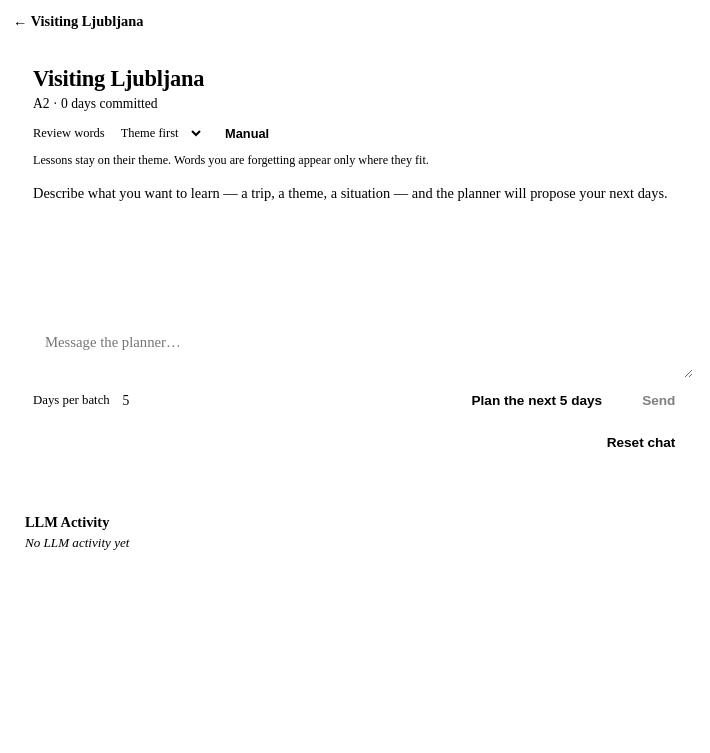
it: /c/[curriculumId]/plan page › sending a message appends the turn and renders the proposal
Type "plan my trip" into the text box with placeholder "Message the planner…". click: x=363, y=351
box: left=33, top=325, right=693, bottom=378
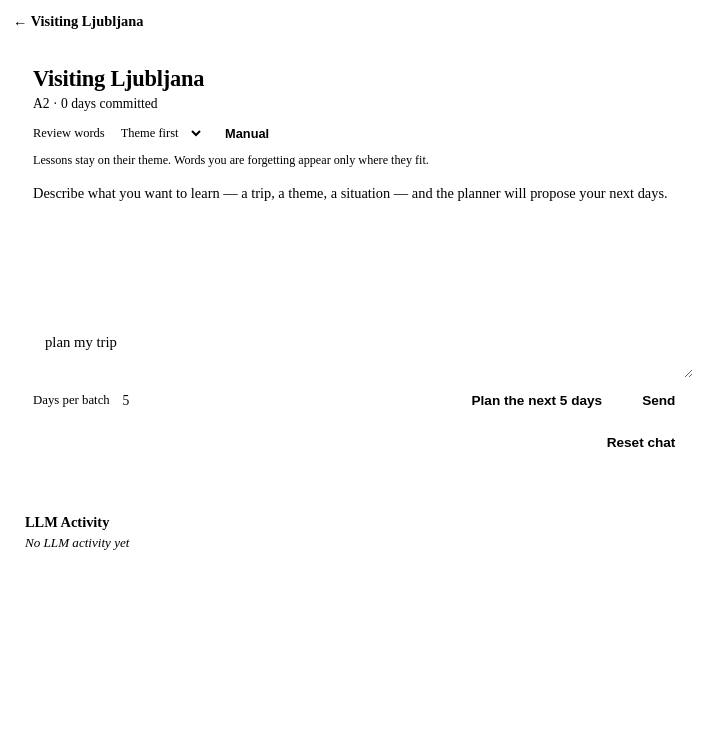
Click the button "Send". click: x=659, y=401
box: left=625, top=386, right=693, bottom=415
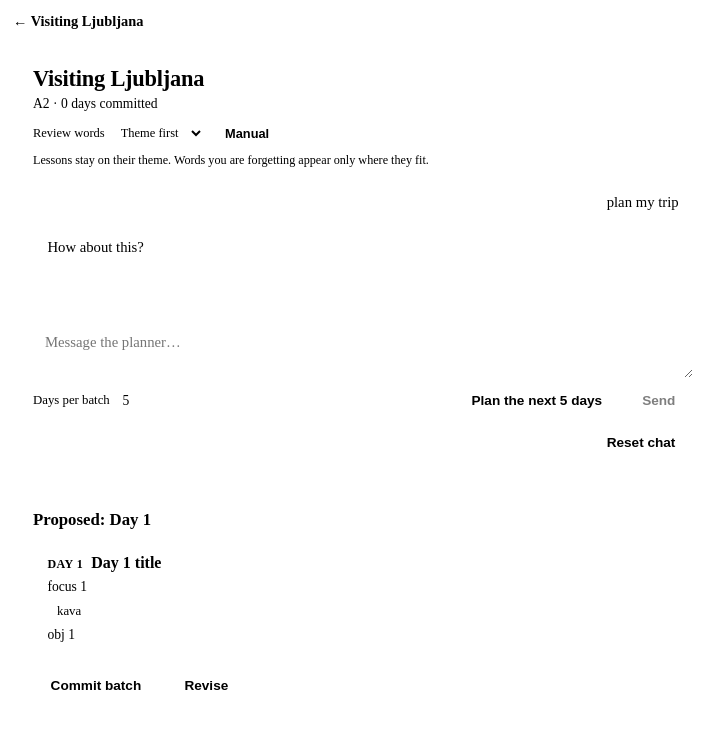
Expected: the text "How about this?" is shown, left=47, top=239, right=144, bottom=255
Expected: the text "plan my trip" is shown, left=607, top=194, right=679, bottom=210
Expected: the heading "Proposed: Day 1" is shown, left=33, top=510, right=151, bottom=529
